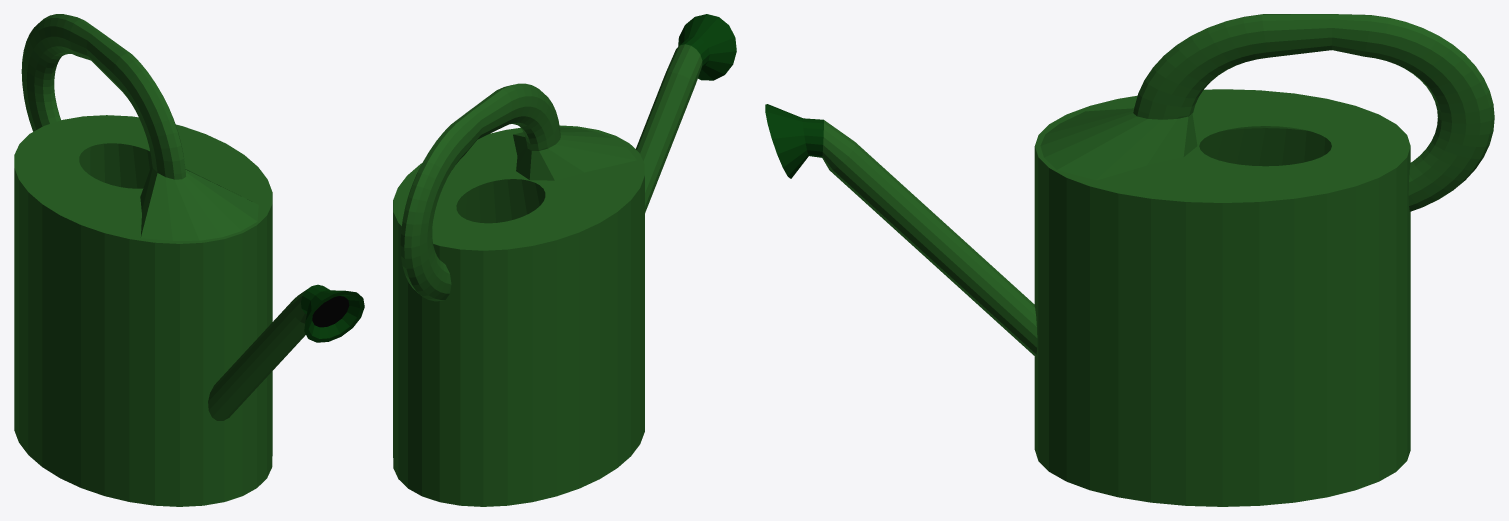
The model's file is wateringcan.fbx.
The picture shows the model from 3 angles, left to right: view 1: azimuth 30°, elevation 25°; view 2: azimuth 150°, elevation 25°; view 3: azimuth 270°, elevation 25°; orthographic projection. The views are drawn at different scales.
Parts seen in each view (by area): view 1: Cylinder; view 2: Cylinder; view 3: Cylinder.
Boxes of the visible parts, x1,y1,x2,y2 form: Cylinder: (14,14,364,506); Cylinder: (393,14,736,506); Cylinder: (765,14,1494,506).
Size of the model in its own units: 0.4945 by 0.882 by 1.34.
